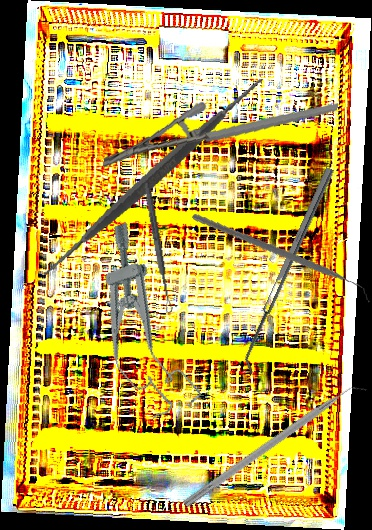Chopper: (182, 377, 371, 518), (191, 189, 371, 329)
Needle Holder: (102, 79, 339, 192)
Spatula Surgical: (29, 50, 277, 303), (236, 167, 343, 375)
Speculum: (74, 217, 204, 427)
Surgical Spoon: (142, 181, 174, 314)
